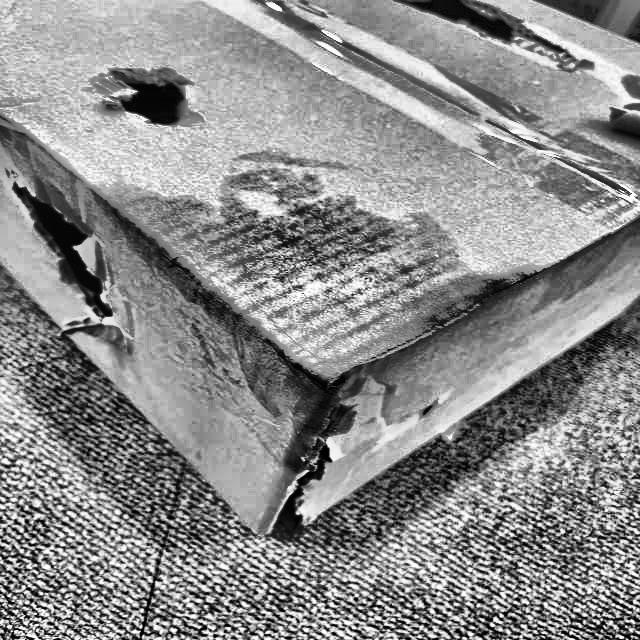box: (1, 1, 639, 539)
hole: (9, 164, 118, 352), (381, 0, 584, 94), (73, 50, 214, 135)
wet: (157, 177, 497, 421)
